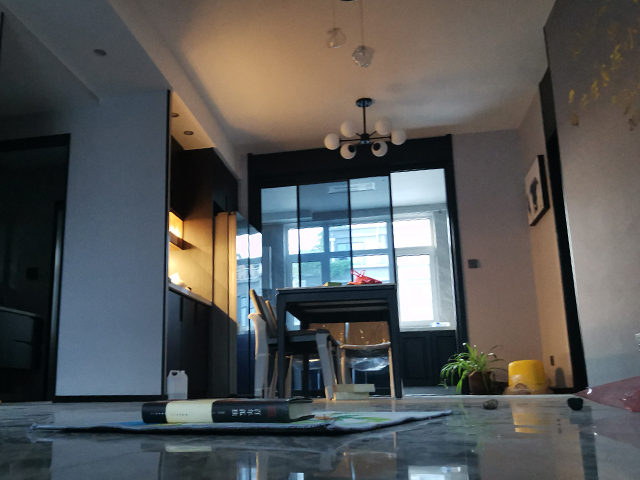book: (139, 395, 317, 426)
cabinet: (163, 287, 240, 397), (393, 327, 464, 396)
carpet: (27, 408, 457, 439)
feces: (565, 397, 585, 412), (479, 398, 500, 410)
stool: (246, 288, 345, 398), (309, 319, 397, 401), (505, 358, 553, 396)
table: (271, 281, 405, 400)
